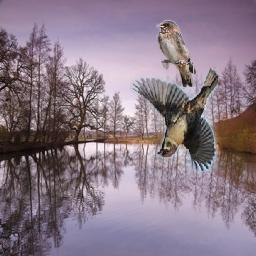Sparrow: (130, 68, 218, 172)
Swallow: (156, 19, 196, 87)
